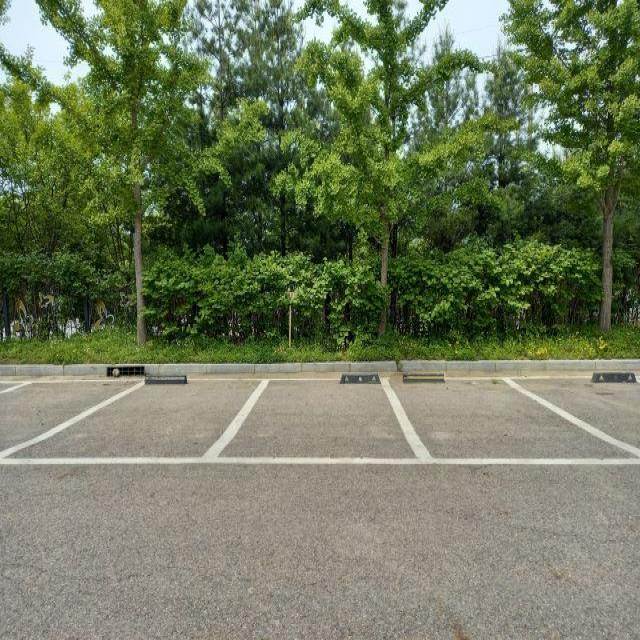empty: (419, 369, 609, 472), (238, 379, 411, 467), (83, 375, 241, 466)
